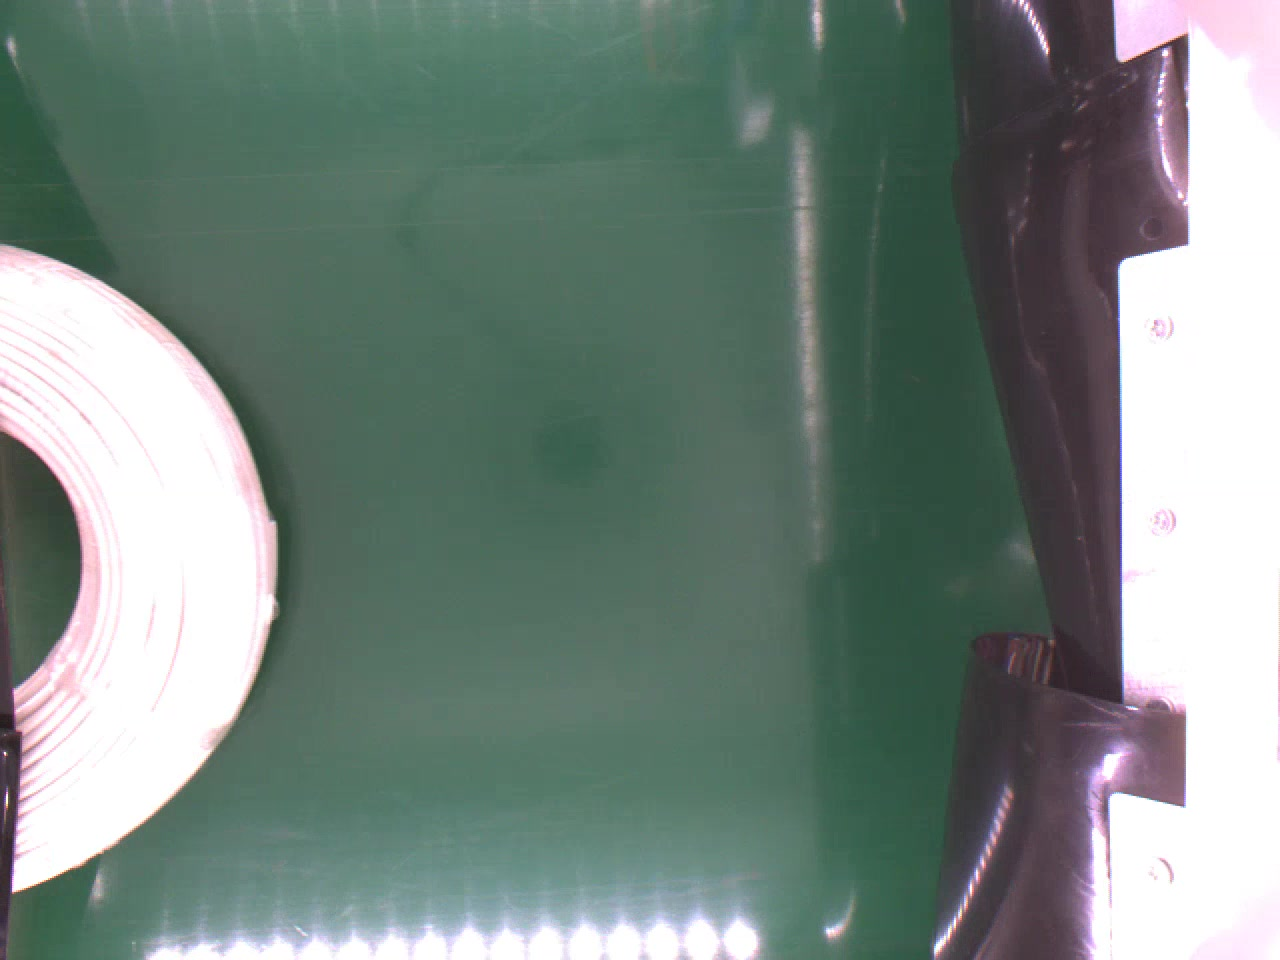white: (0, 239, 283, 895)
